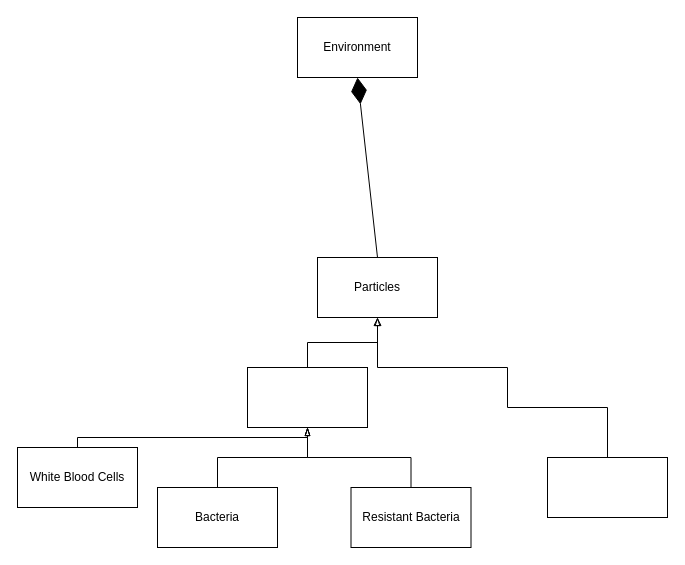
The diagram is 685 pixels wide and 565 high, and some of its shapes have lost their labels. The shapes that lost their labels are listed below. From the top down, each one's box as (x1, y1, x2, y2) in pixels, then its label:
(246, 366, 368, 428): Cells
(546, 456, 668, 518): Antibodies
